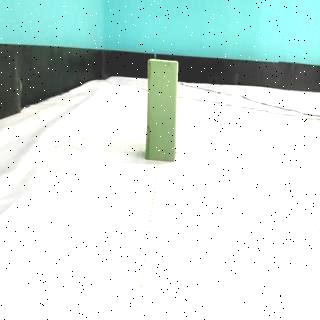greenbox: (146, 59, 178, 163)
